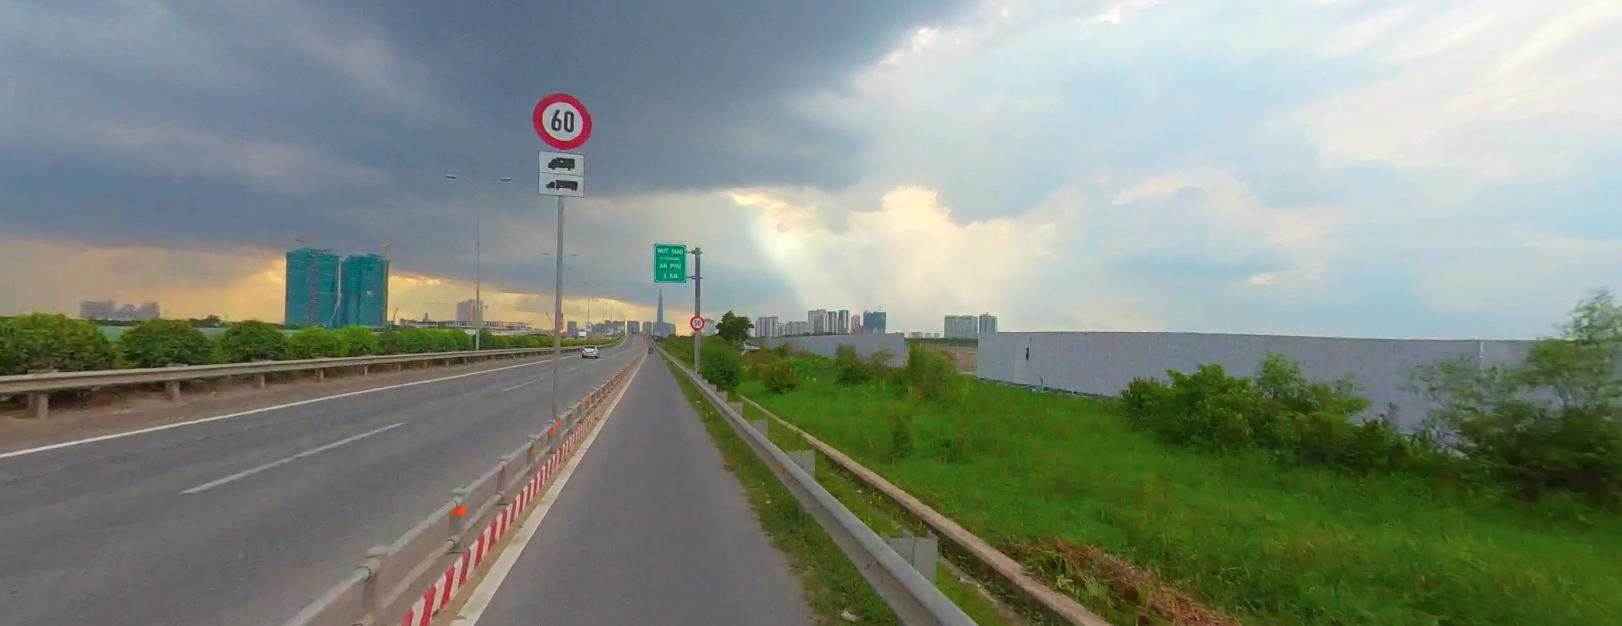Gioi han toc do: (529, 93, 595, 146), (690, 312, 704, 329)
